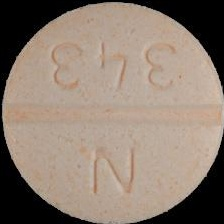63629-2907: (0, 0, 224, 224)
